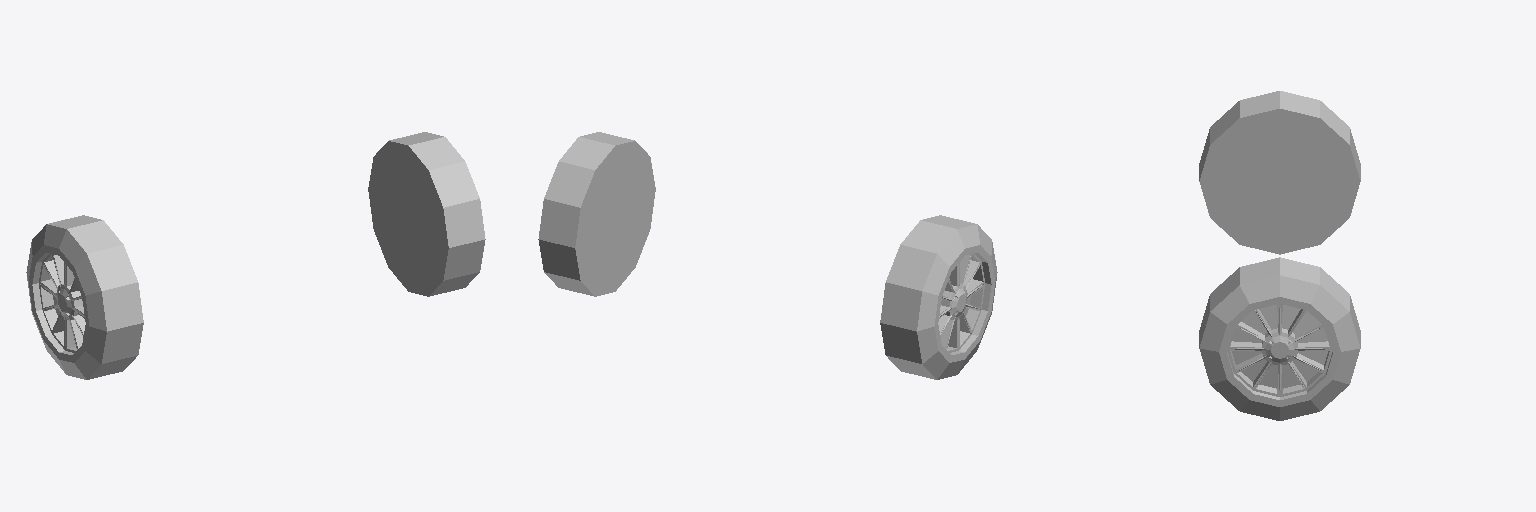
Rendered from SportsCar2_BackWheels_Cylinder.002.obj.
3 renders of one model, left to right at view 1: azimuth 30°, elevation 25°; view 2: azimuth 150°, elevation 25°; view 3: azimuth 270°, elevation 25°, orthographic.
Parts seen in each view (by area): view 1: SportsCar2_BackWheels_Cylinder.006_SportsCar2_BackWheels_Cylinde; view 2: SportsCar2_BackWheels_Cylinder.006_SportsCar2_BackWheels_Cylinde; view 3: SportsCar2_BackWheels_Cylinder.006_SportsCar2_BackWheels_Cylinde.
Boxes of the visible parts, box(x1,y1,x2,y2) form: SportsCar2_BackWheels_Cylinder.006_SportsCar2_BackWheels_Cylinde: box(26, 132, 485, 379); SportsCar2_BackWheels_Cylinder.006_SportsCar2_BackWheels_Cylinde: box(538, 132, 997, 379); SportsCar2_BackWheels_Cylinder.006_SportsCar2_BackWheels_Cylinde: box(1199, 91, 1360, 420).
Bounding box in the file's own units: 190 × 67.29 × 67.29.